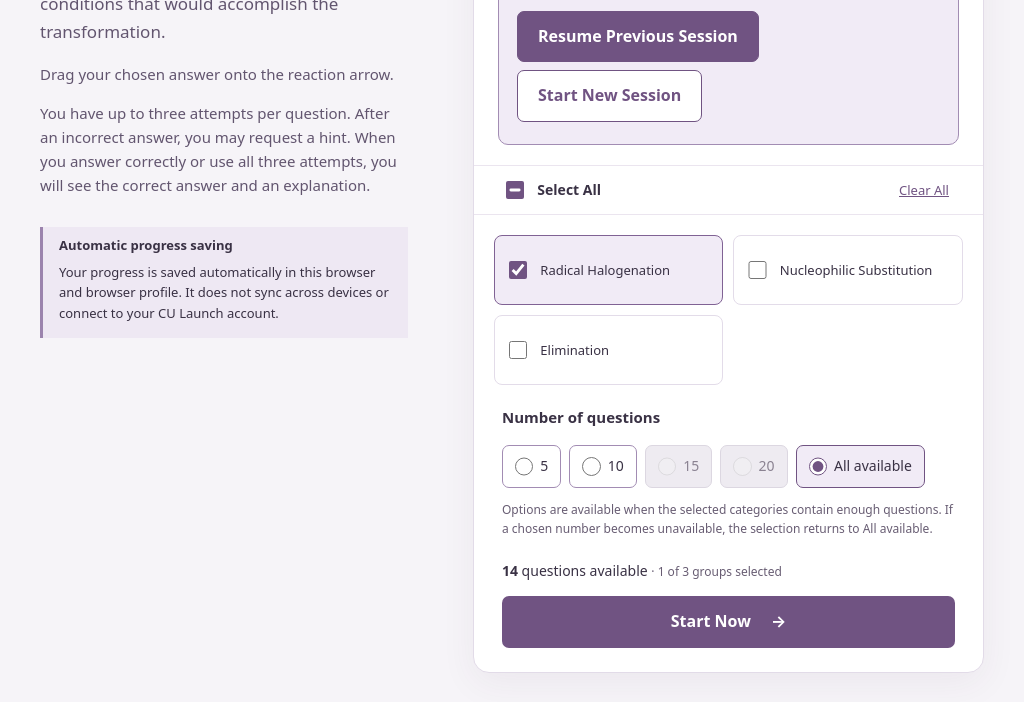
Test: automatic saving and session restoration › preserves saved work when Start Now replacement is cancelled
The width and height of the screenshot is (1024, 702).
(page scrolled)
Click the button "Start Now →" at [728, 622], box [502, 596, 955, 648]
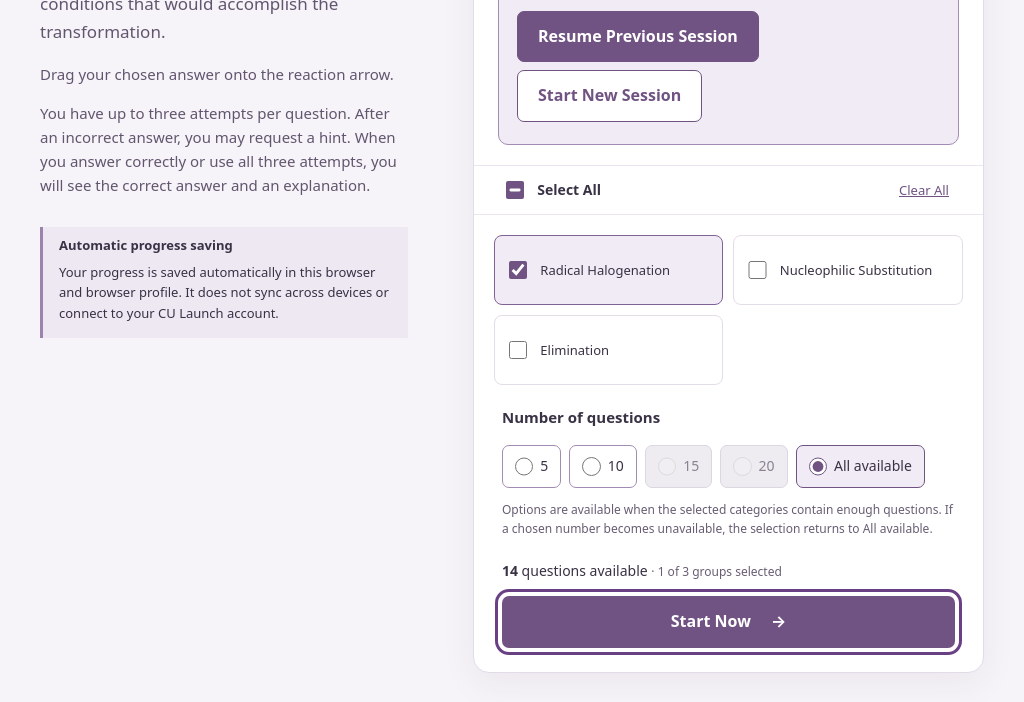
Click the button "Resume Previous Session" at [638, 36], box [517, 10, 759, 62]
(page scrolled)
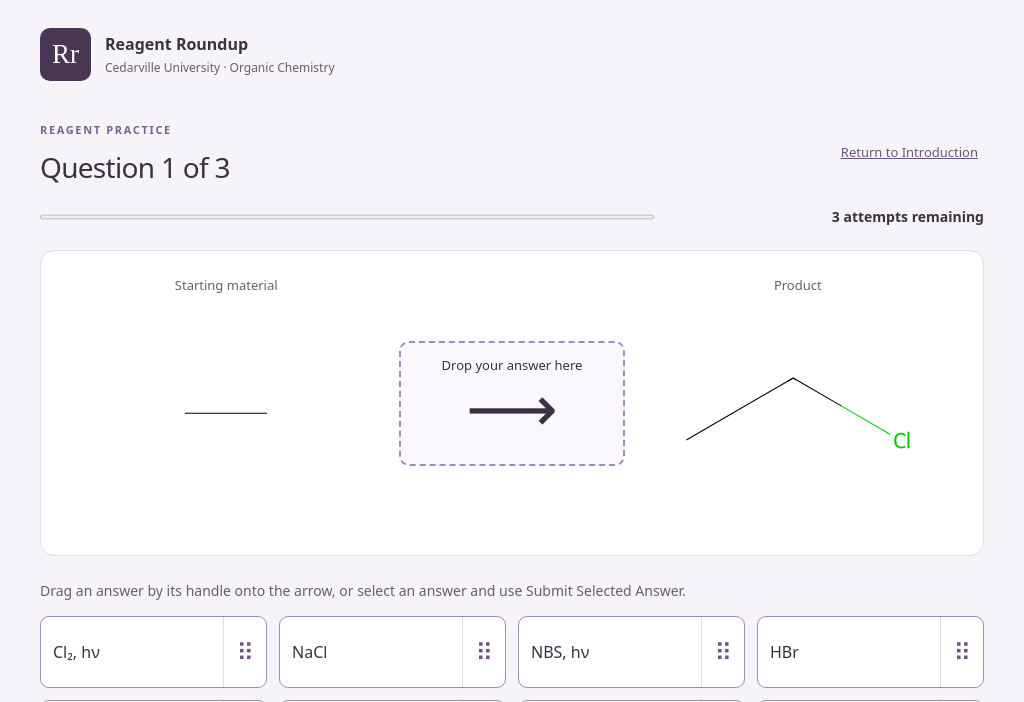
Expected: the heading "Question 1 of 3" is shown, [40, 151, 230, 184]
